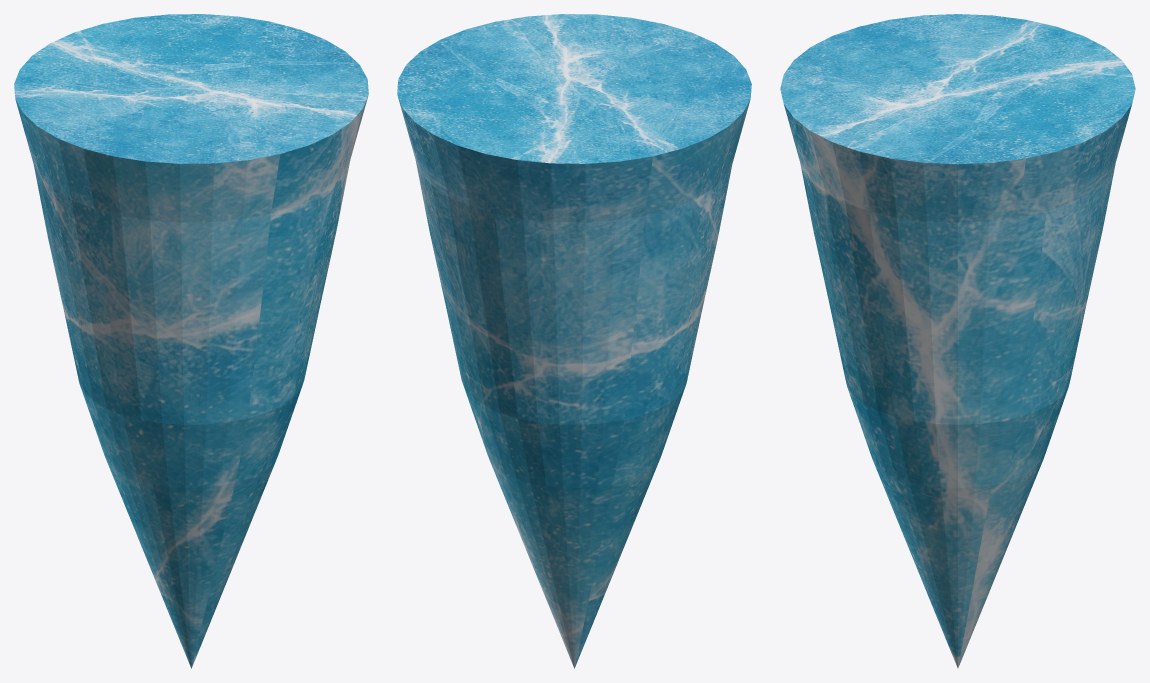
File: PicoHielo.fbx
The picture shows the model from 3 angles, left to right: view 1: azimuth 30°, elevation 25°; view 2: azimuth 150°, elevation 25°; view 3: azimuth 270°, elevation 25°; orthographic projection.
Parts seen in each view (by area): view 1: Cone; view 2: Cone; view 3: Cone.
Part boxes in pixels (x1,y1,x2,y2): Cone: (14, 14, 368, 668); Cone: (397, 14, 751, 668); Cone: (780, 14, 1135, 668).
Bounding box in the file's own units: 241 × 434 × 241.
Materials: 1 (1 with a texture image).
